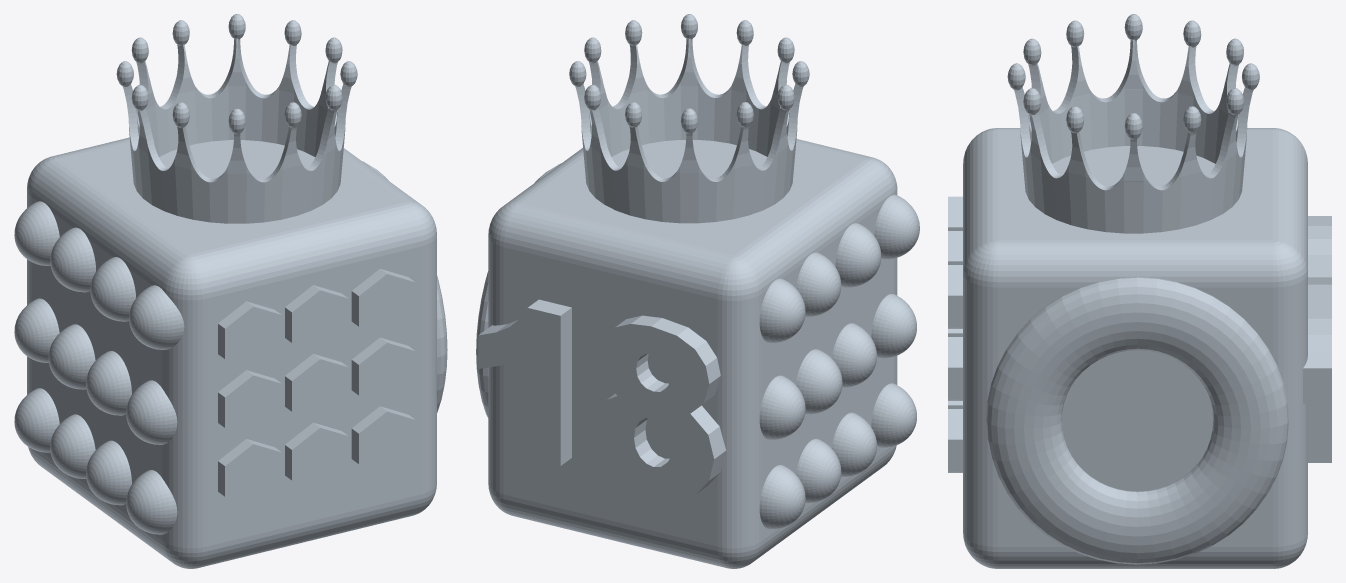
File: Maddie fidget skydiver blue.glb
3 views of the same model, side by side, from view 1: azimuth 30°, elevation 25°; view 2: azimuth 150°, elevation 25°; view 3: azimuth 270°, elevation 25° (orthographic). The views are drawn at different scales.
Parts seen in each view (by area): view 1: Mesh_Mesh_head_geo.001_lambert2SG.001; view 2: Mesh_Mesh_head_geo.001_lambert2SG.001; view 3: Mesh_Mesh_head_geo.001_lambert2SG.001.
Boxes of the visible parts, <box> form: Mesh_Mesh_head_geo.001_lambert2SG.001: <box>14,14,447,568</box>; Mesh_Mesh_head_geo.001_lambert2SG.001: <box>476,14,919,568</box>; Mesh_Mesh_head_geo.001_lambert2SG.001: <box>948,14,1331,568</box>.
Size of the model in its own units: 0.04 by 0.0517 by 0.04.
